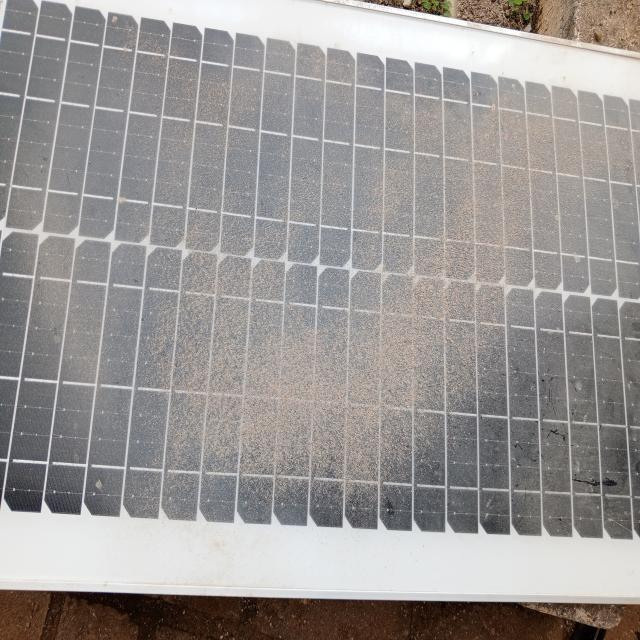Anomaly Solar Panel: (1, 4, 638, 570)
Surface Contaminant: (7, 9, 639, 554)
